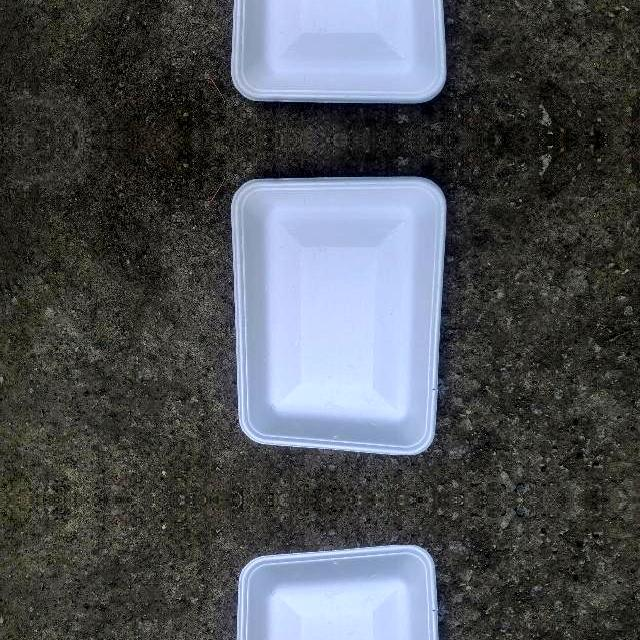Styrofoam: (229, 174, 446, 456), (231, 176, 447, 454), (229, 0, 446, 105), (231, 0, 447, 104), (229, 544, 446, 640), (237, 546, 439, 640)
